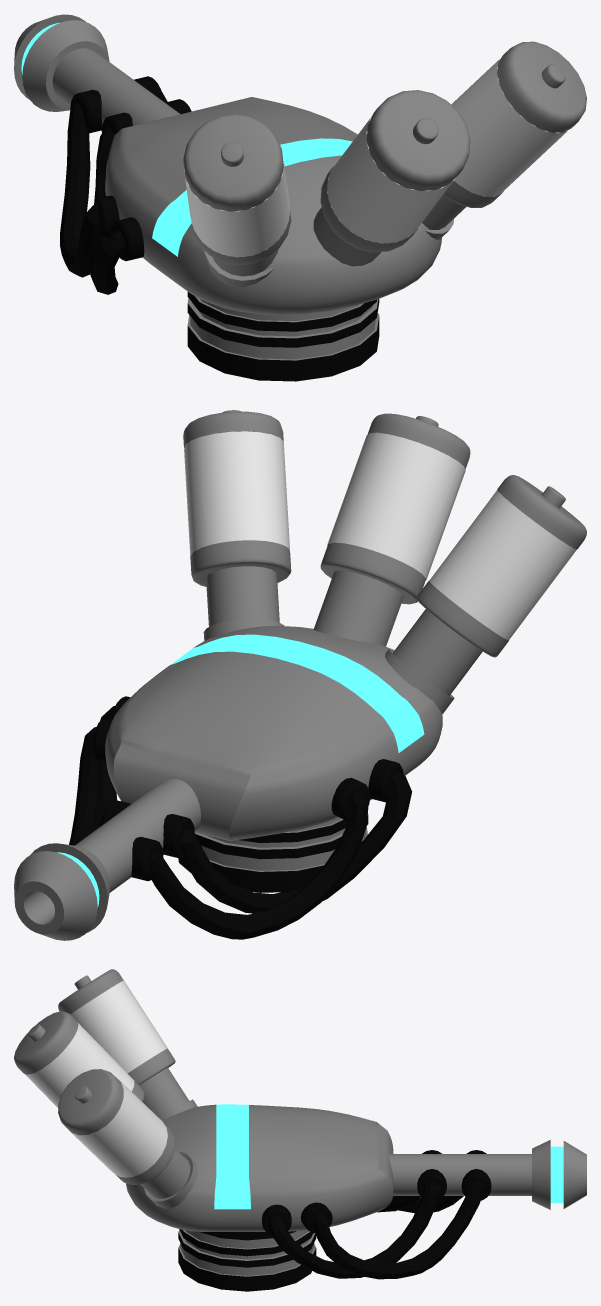
File: SM_IceBeam.fbx
3 views of the same model, one above another, from view 1: azimuth 30°, elevation 25°; view 2: azimuth 150°, elevation 25°; view 3: azimuth 270°, elevation 25° (orthographic). The views are drawn at different scales.
Visible parts, largest first — view 1: MainBody; view 2: MainBody; view 3: MainBody.
Boxes of the visible parts, x1=… form: MainBody: x1=14, y1=14, x2=586, y2=381; MainBody: x1=14, y1=410, x2=586, y2=940; MainBody: x1=14, y1=969, x2=586, y2=1291.
Bounding box in the file's own units: 139 × 117 × 247.
